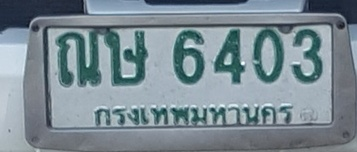txt14: (53, 28, 102, 88)
txt34: (102, 29, 150, 89)
